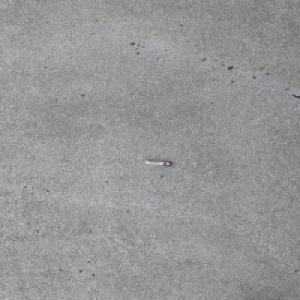Battery: (145, 160, 172, 166)
